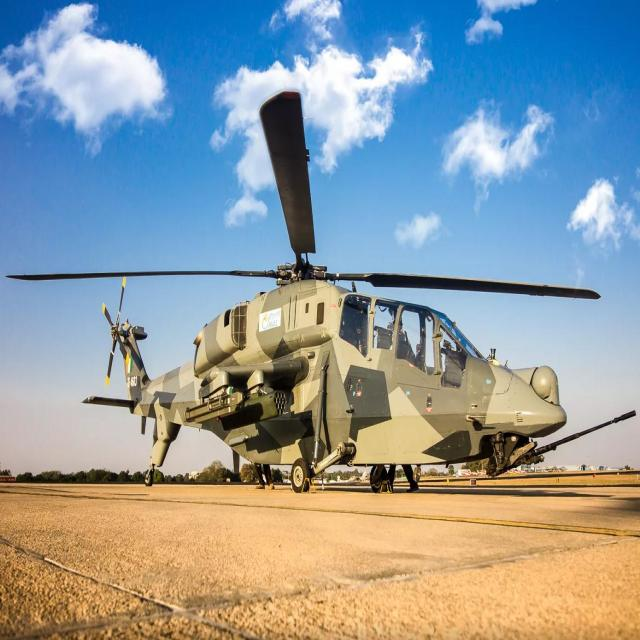MIL_HELO: (11, 88, 612, 513)
